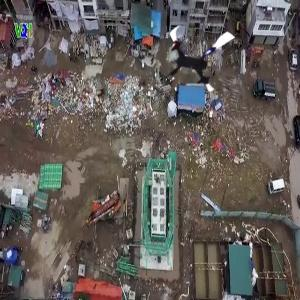drone: (160, 16, 242, 98)
